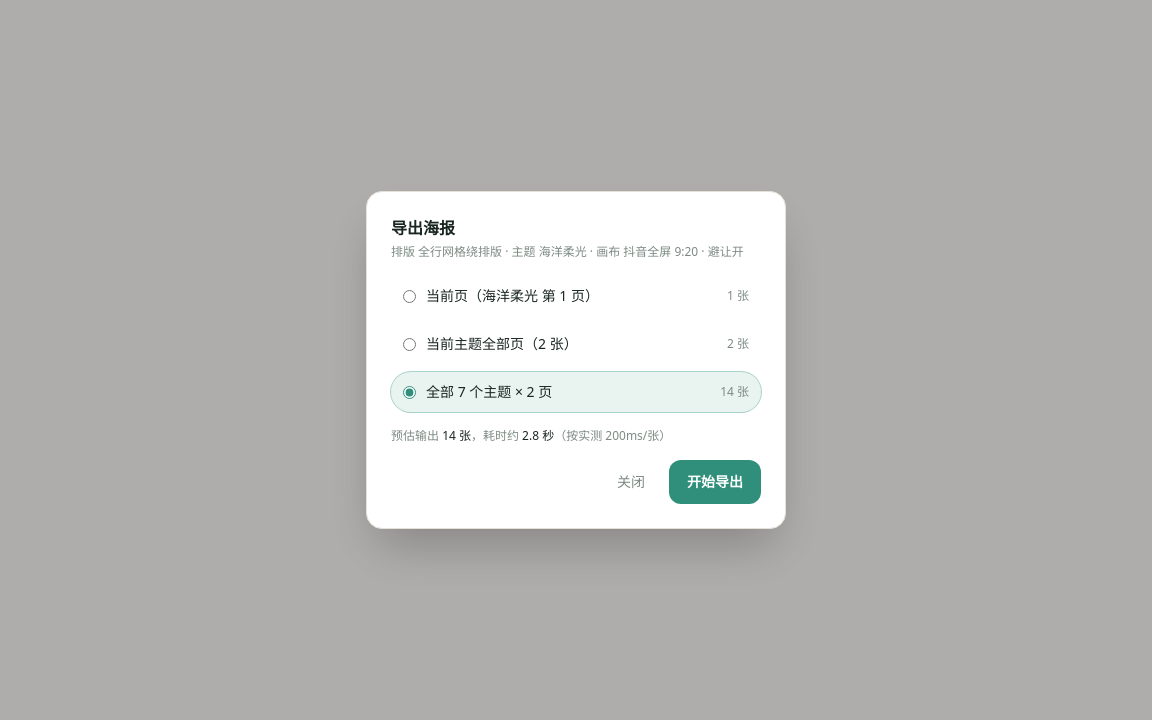
Test: ExportDialog - 错误 + 重试（M3 P0） › 批量导出返回 error → 错误阶段显示「重试 + 关闭」
Click the button with test id "export-start". click: coordinates (715, 482)
box: left=669, top=460, right=761, bottom=504
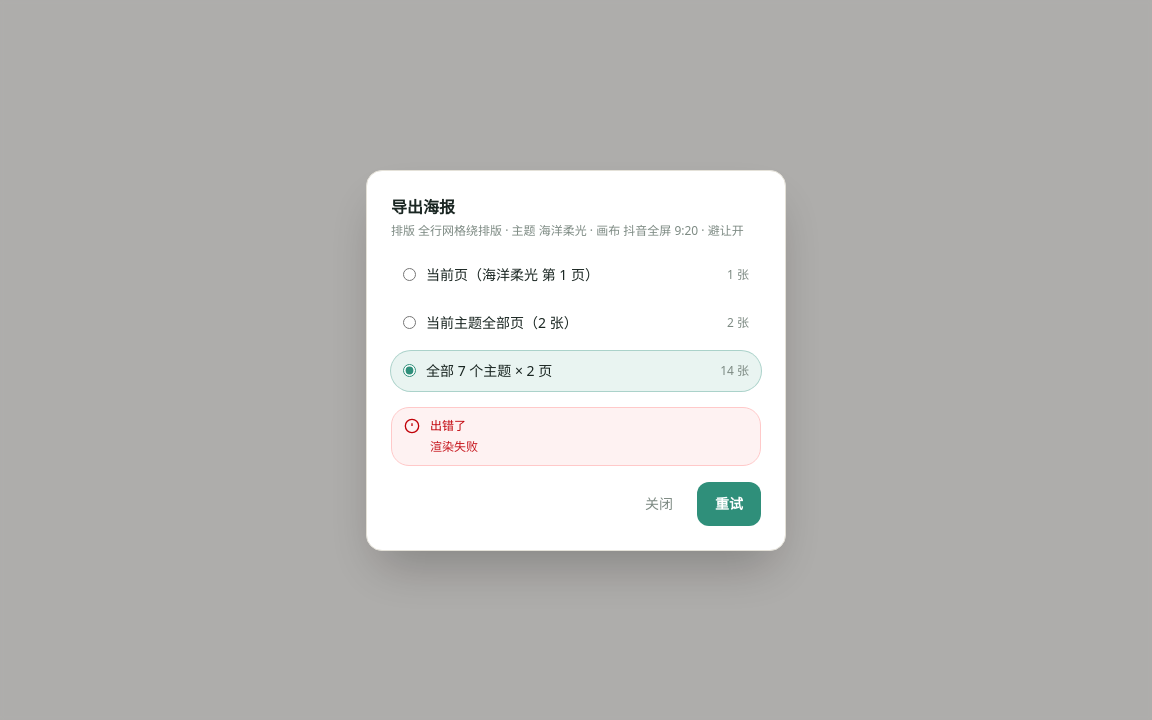
expect the element with test id "export-error-section" is shown: met, box left=391, top=406, right=761, bottom=526
expect the element with test id "export-error-message" shows "渲染失败": met, box left=430, top=438, right=478, bottom=455
expect the button with test id "export-retry" is shown: met, box left=697, top=482, right=761, bottom=526
